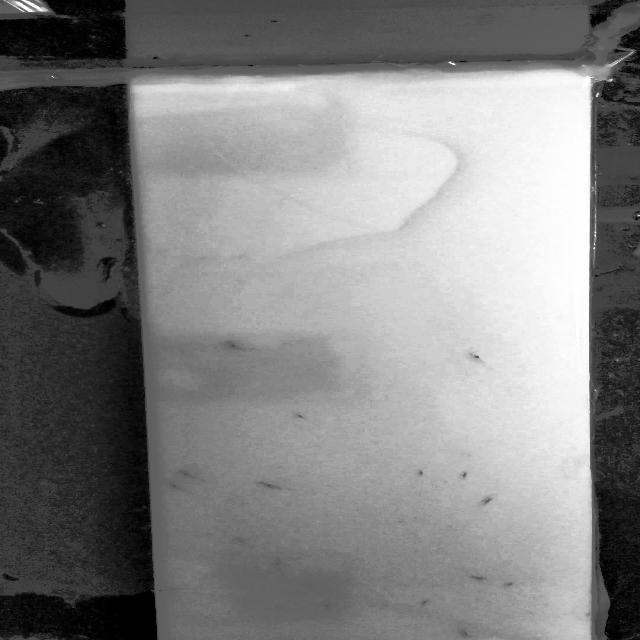shrimp: (247, 478, 298, 492), (173, 467, 206, 481), (216, 338, 245, 351), (266, 556, 290, 571), (408, 463, 429, 480), (462, 354, 496, 364), (287, 412, 317, 422), (153, 586, 186, 595), (226, 536, 252, 546), (316, 598, 334, 612), (476, 496, 499, 506), (163, 482, 190, 490), (461, 466, 474, 482), (462, 574, 488, 582), (417, 598, 435, 608), (456, 627, 474, 636)
